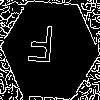F: (25, 25, 55, 73)
